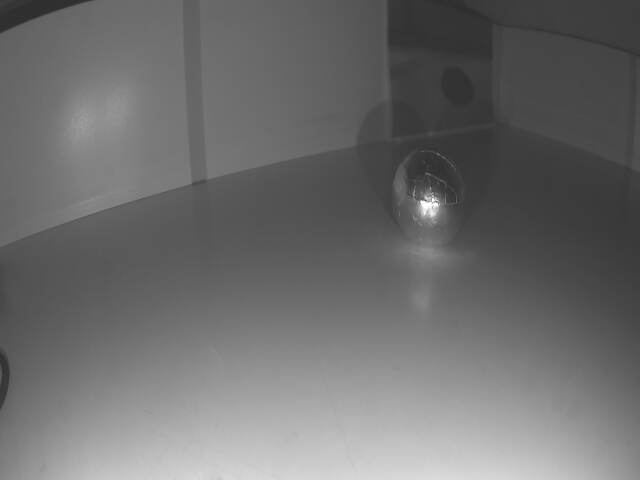Live: (394, 145, 471, 247)
